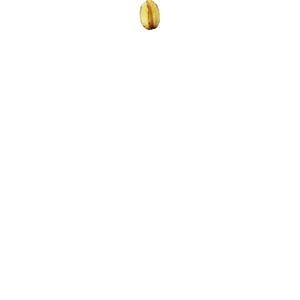carambola: (140, 1, 160, 31)
